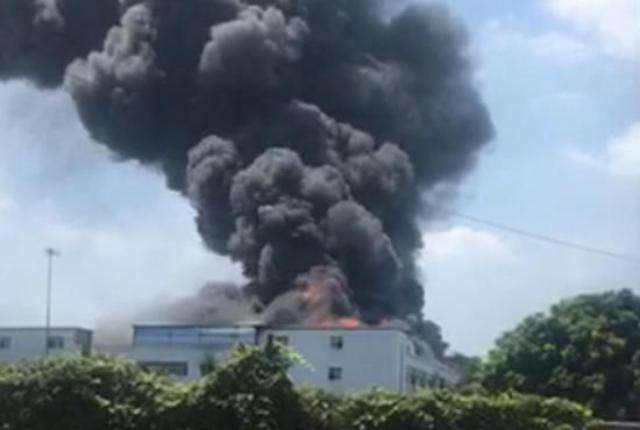smoke: (115, 3, 472, 160), (192, 163, 400, 257), (250, 260, 420, 322), (1, 0, 109, 82)
